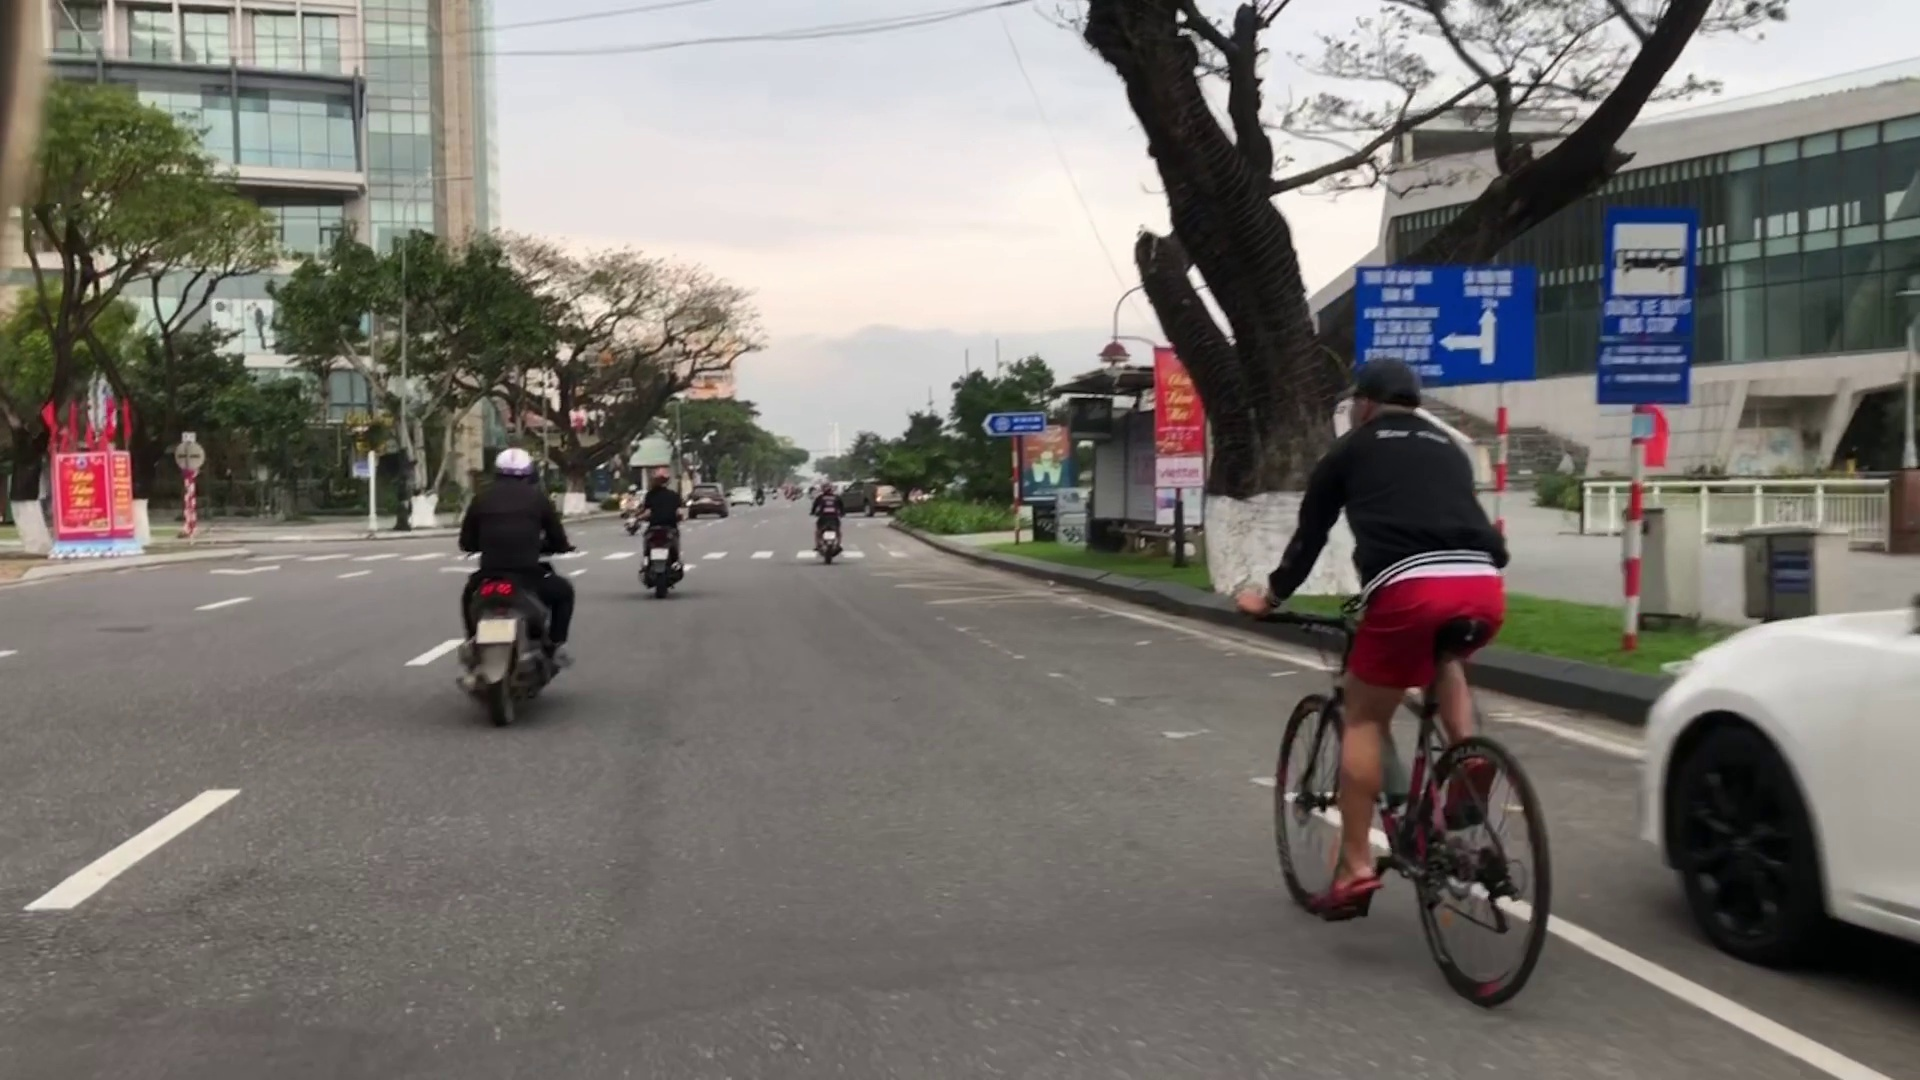Bien khac: (1356, 262, 1542, 388), (1607, 208, 1691, 405)
